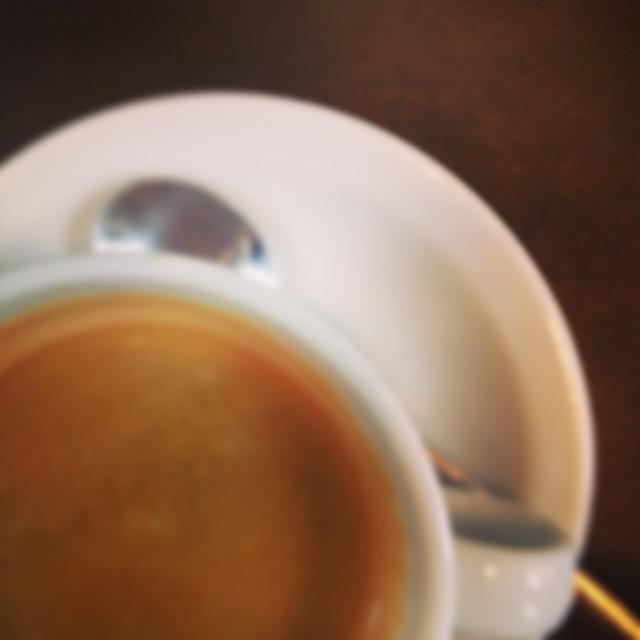Coffee: (4, 311, 397, 638)
Tea: (0, 297, 401, 639)
